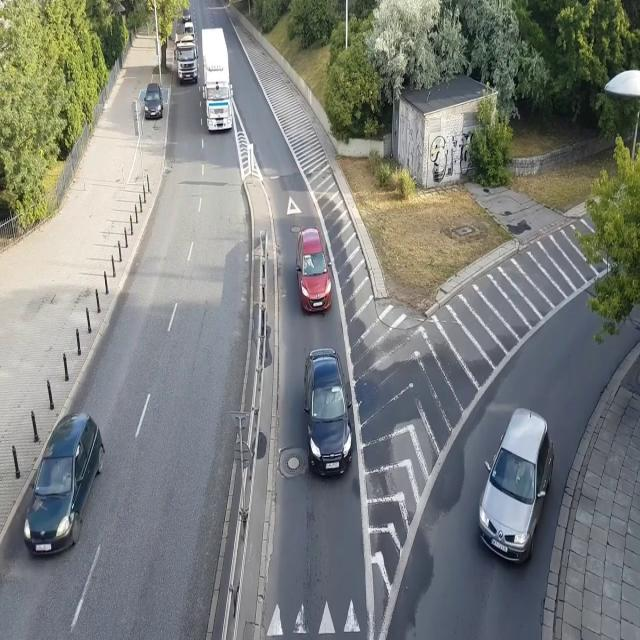car: (478, 405, 556, 570), (24, 410, 106, 558), (304, 347, 353, 480), (294, 228, 334, 317), (144, 83, 163, 120), (183, 22, 195, 35), (182, 7, 191, 22)
truck: (201, 27, 233, 133), (174, 34, 198, 85)
